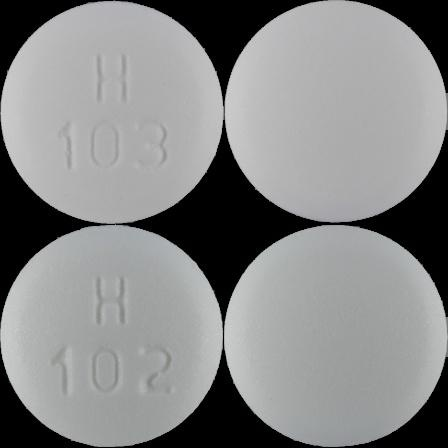50436-9055: (0, 0, 224, 224)
